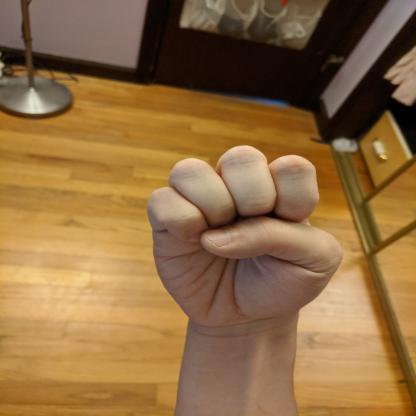E: (141, 142, 348, 324)
